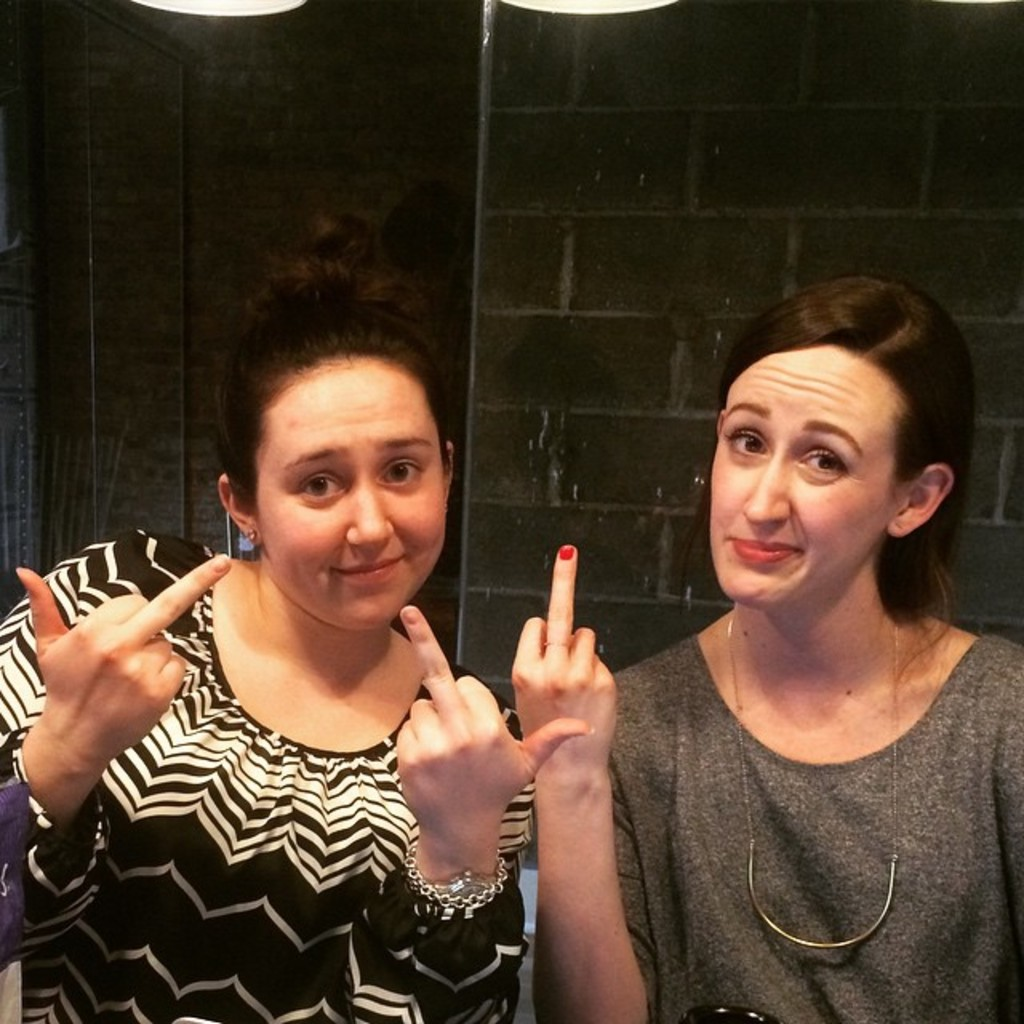Human-face: (250, 373, 464, 627), (710, 357, 888, 603)
